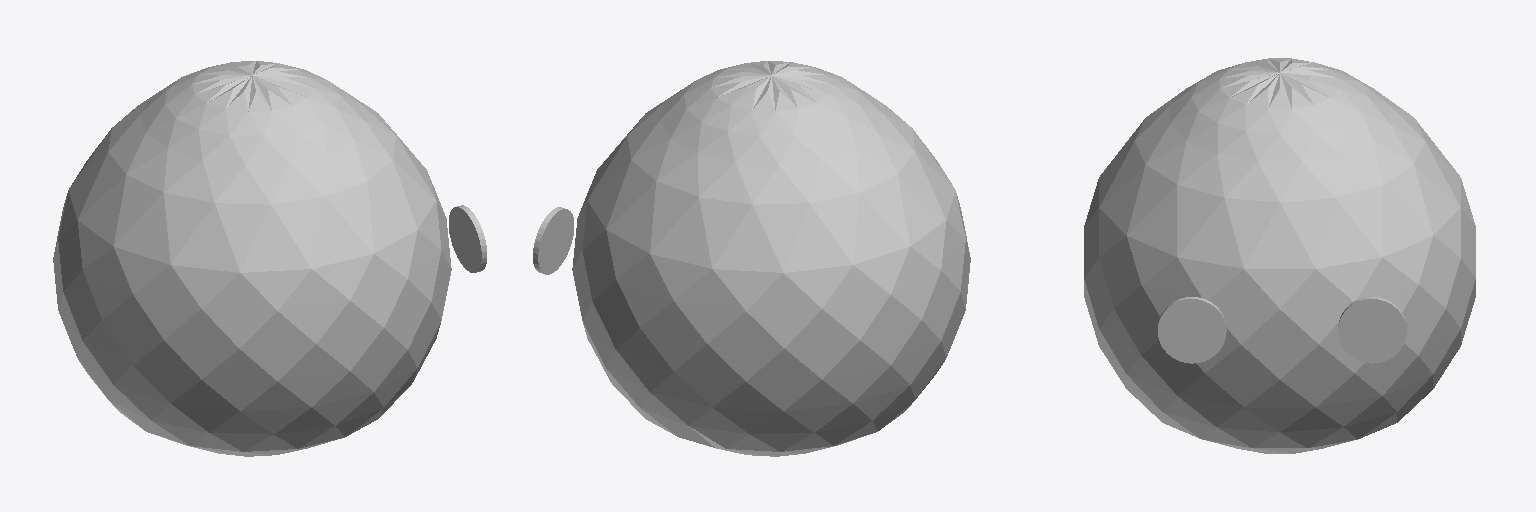
File: (Jump-Animation) Prot-Slime 3d.obj
The picture shows the model from 3 angles: view 1: azimuth 30°, elevation 25°; view 2: azimuth 150°, elevation 25°; view 3: azimuth 270°, elevation 25°; orthographic projection.
Visible parts, largest first — view 1: Sphere, Sphere.001_Sphere.002; view 2: Sphere, Sphere.001_Sphere.002; view 3: Sphere, Sphere.001_Sphere.002.
Boxes of the visible parts, <box> form: Sphere: <box>53,61,451,456</box>; Sphere.001_Sphere.002: <box>449,205,486,272</box>; Sphere: <box>572,61,970,456</box>; Sphere.001_Sphere.002: <box>533,207,573,274</box>; Sphere: <box>1084,58,1475,453</box>; Sphere.001_Sphere.002: <box>1158,297,1406,363</box>.
Bounding box in the file's own units: 2.04 × 2.04 × 2.